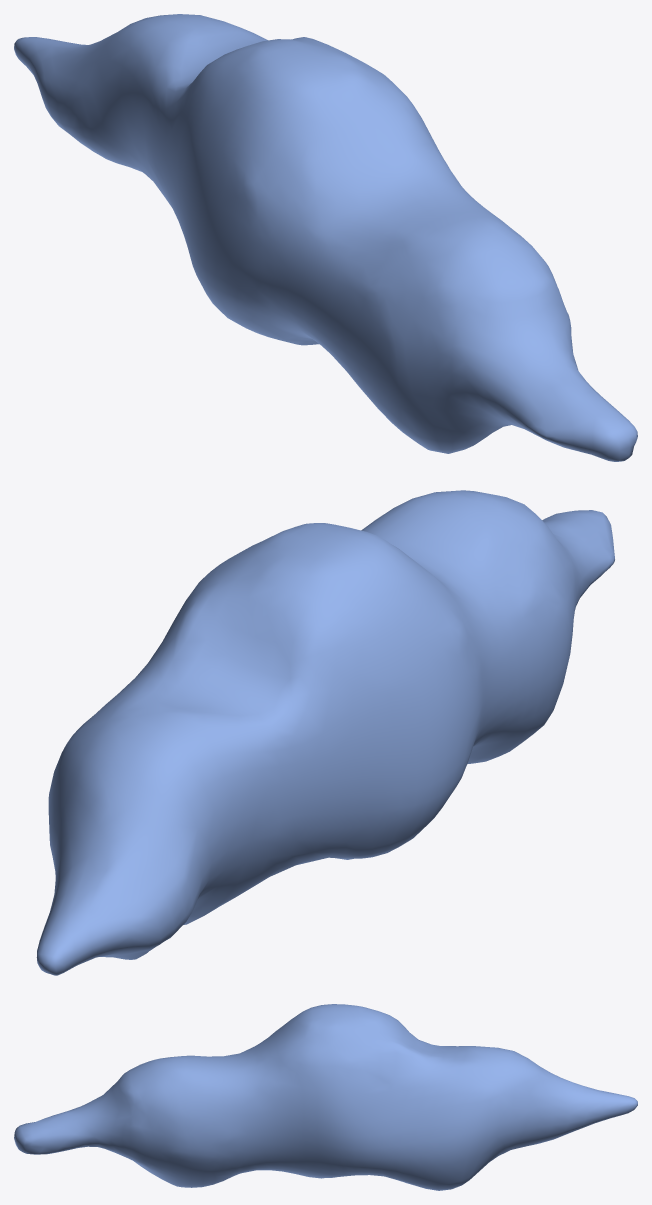
The model's file is bulut.fbx.
3 renders of one model, top to bottom at view 1: azimuth 30°, elevation 25°; view 2: azimuth 150°, elevation 25°; view 3: azimuth 270°, elevation 25°, orthographic. The views are drawn at different scales.
Visible parts, largest first — view 1: bulut1; view 2: bulut1; view 3: bulut1.
Boxes of the visible parts, x1,y1,x2,y2 form: bulut1: [14, 14, 637, 461]; bulut1: [36, 490, 614, 975]; bulut1: [14, 1004, 637, 1190].
Bounding box in the file's own units: 85.56 × 103 × 349.
